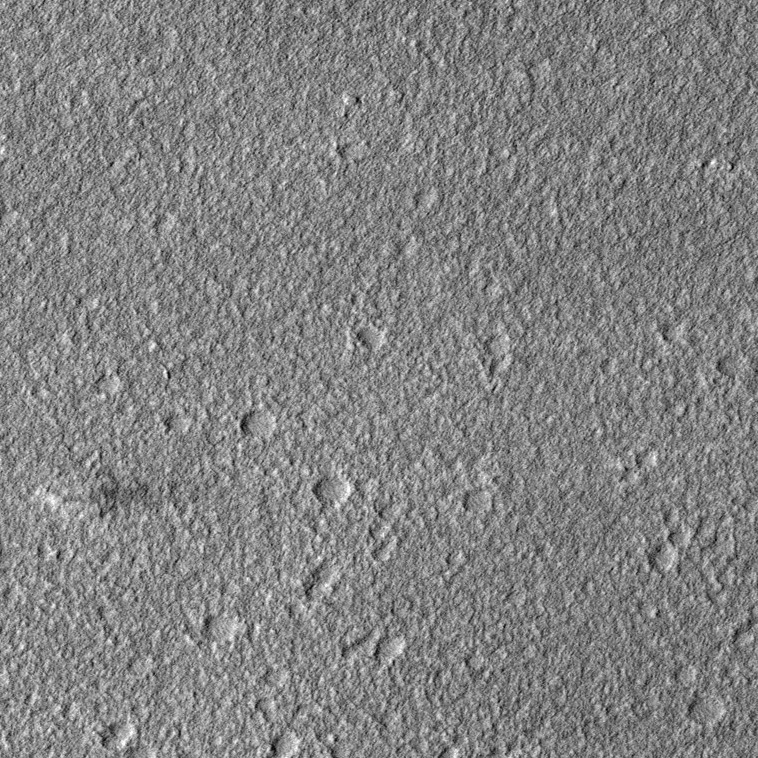dust_devil: (31, 477, 161, 521)
